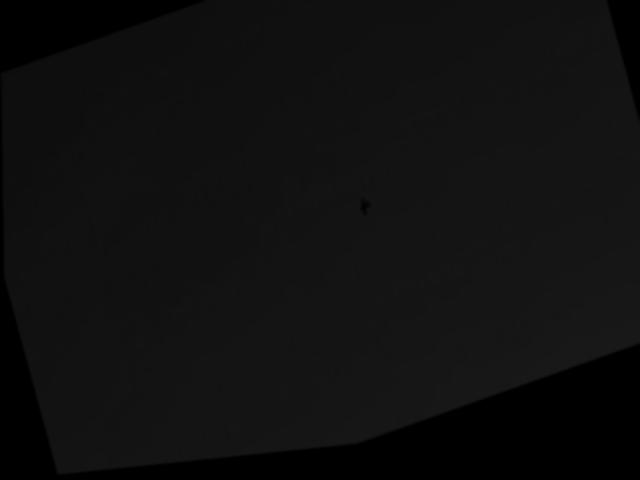hedef: (353, 196, 378, 231)
